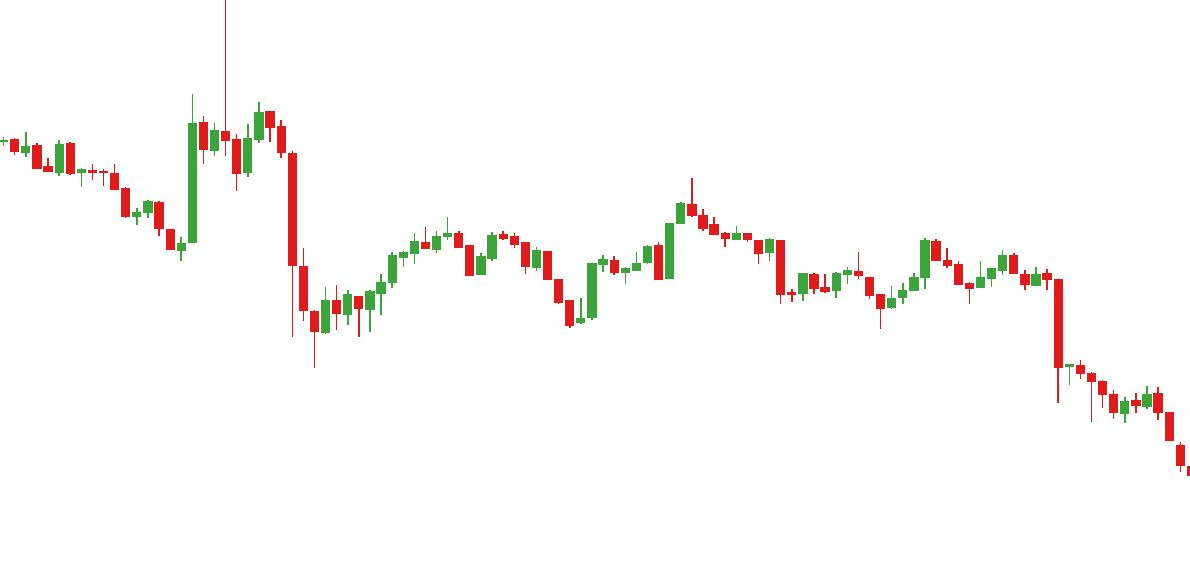sell: (852, 236, 944, 291)
